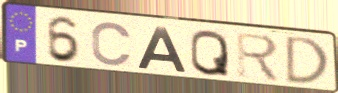6: (45, 14, 82, 65)
A: (135, 24, 189, 73)
C: (90, 20, 134, 68)
D: (284, 34, 331, 86)
Q: (188, 28, 232, 78)
R: (234, 30, 283, 84)
